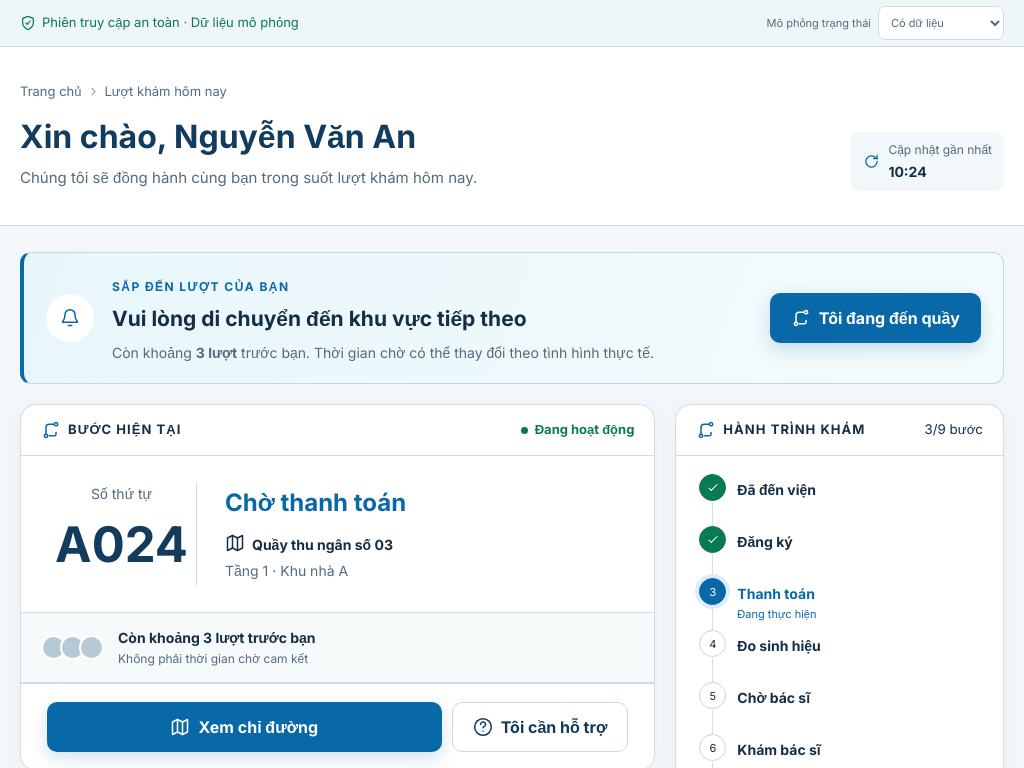
Scenario: VisitCompanionView › hiển thị số thứ tự, vị trí và xác nhận đang đến
Expected: the text "A024" is shown, [47, 505, 196, 586]
Expected: the text "Quầy thu ngân số 03" is shown, [252, 533, 393, 556]
Click the button "Tôi đang đến quầy". click: (875, 318)
box: [770, 293, 981, 343]
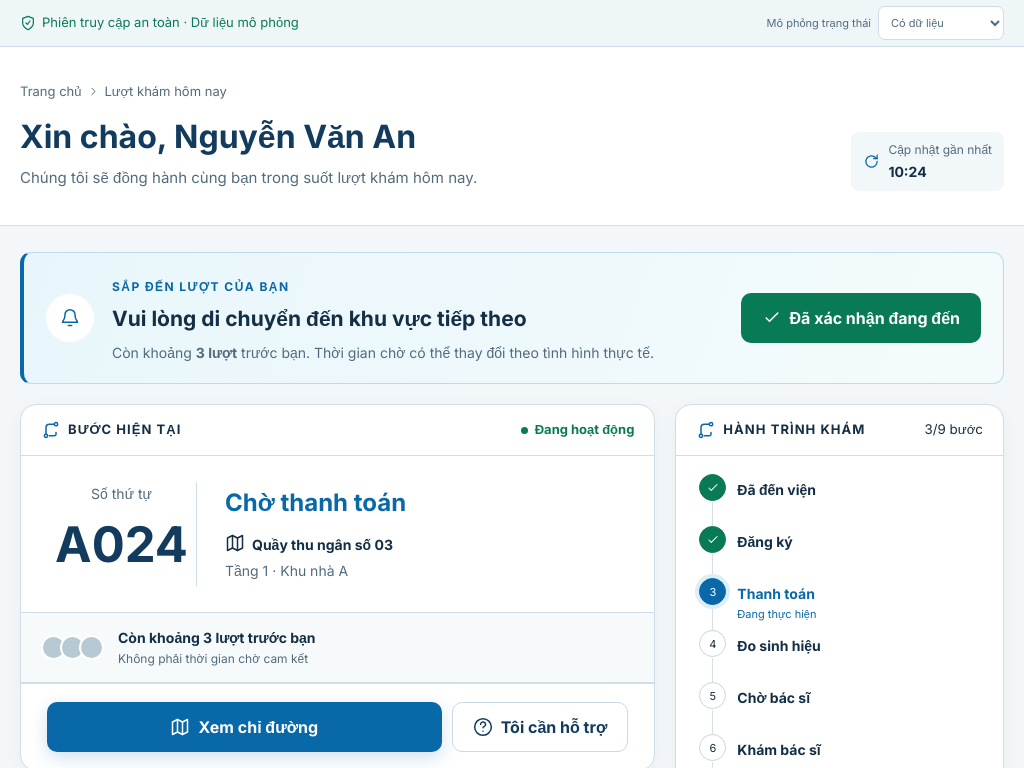
Expected: the button "Đã xác nhận đang đến" is shown, [740, 293, 981, 343]
